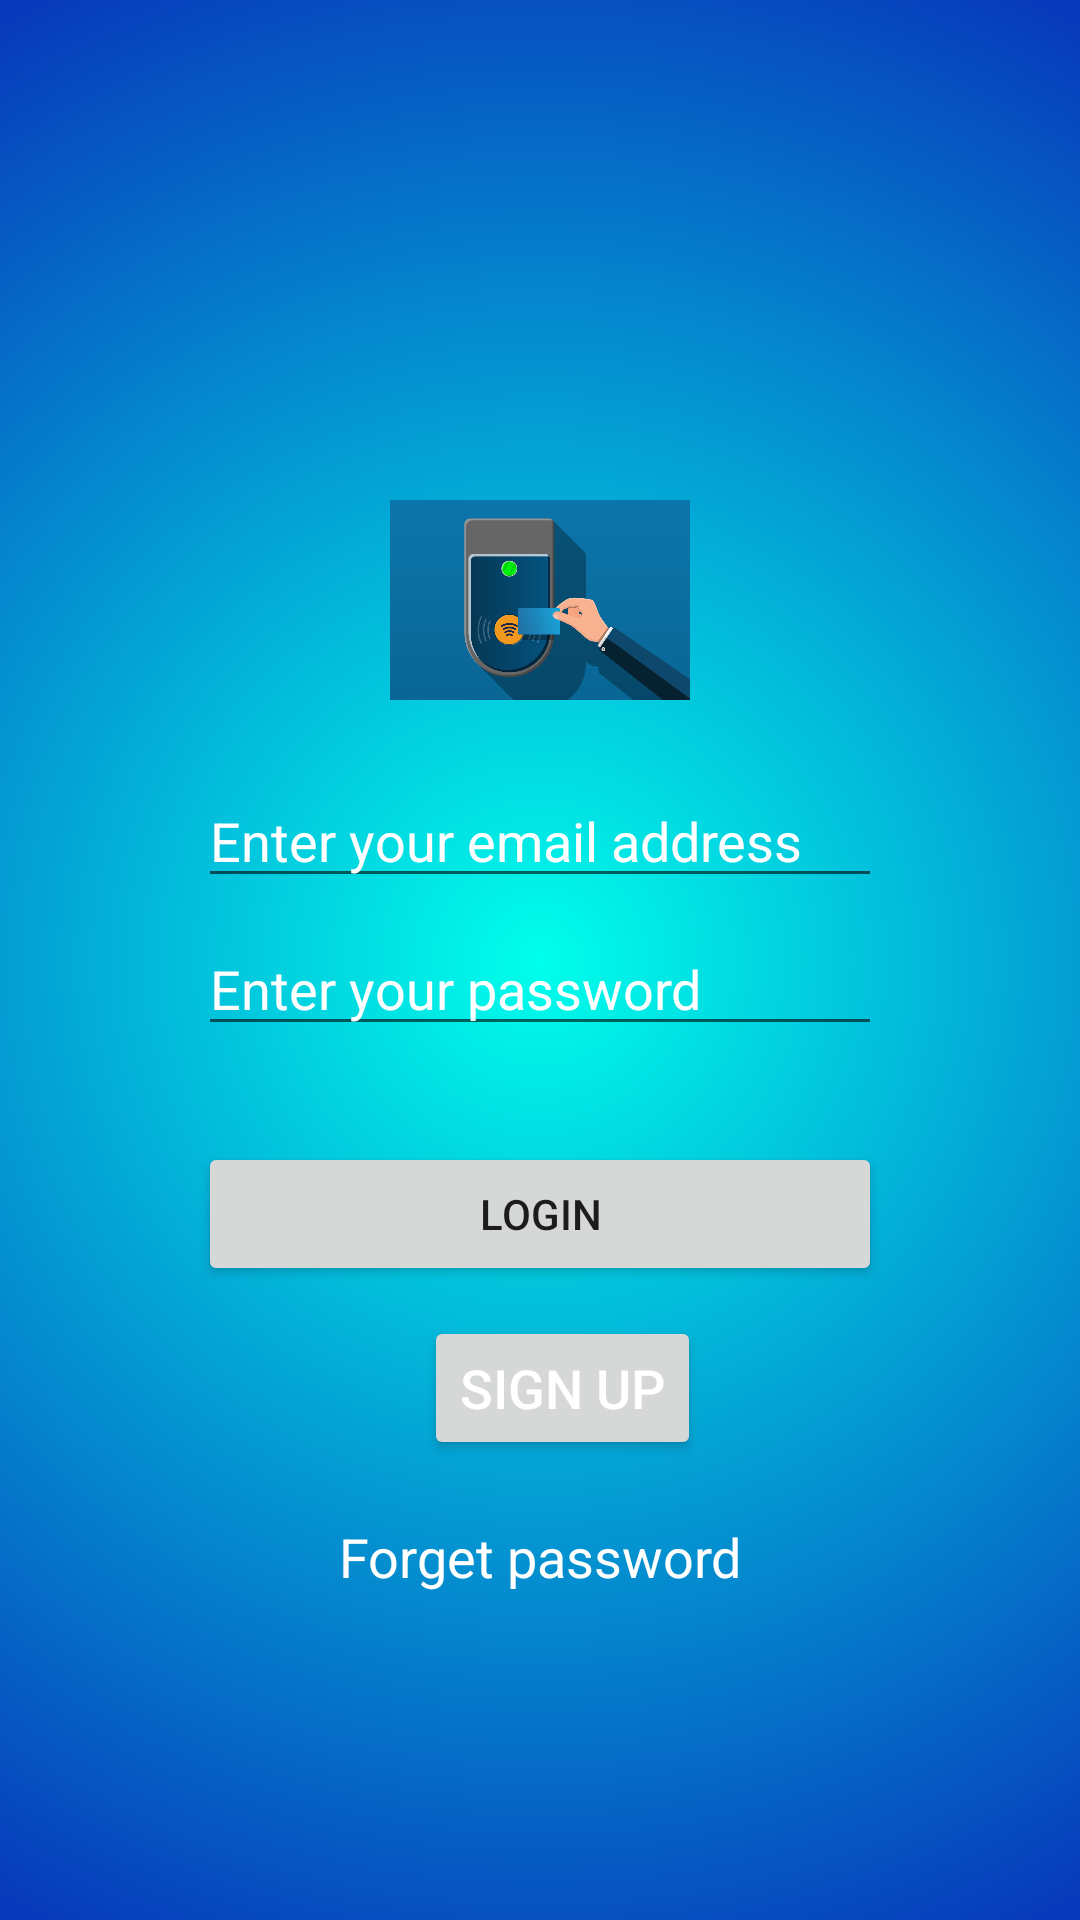

Icon click points for this 1080×1920 phone screenshot, format (x,y):
card: (540,600)
